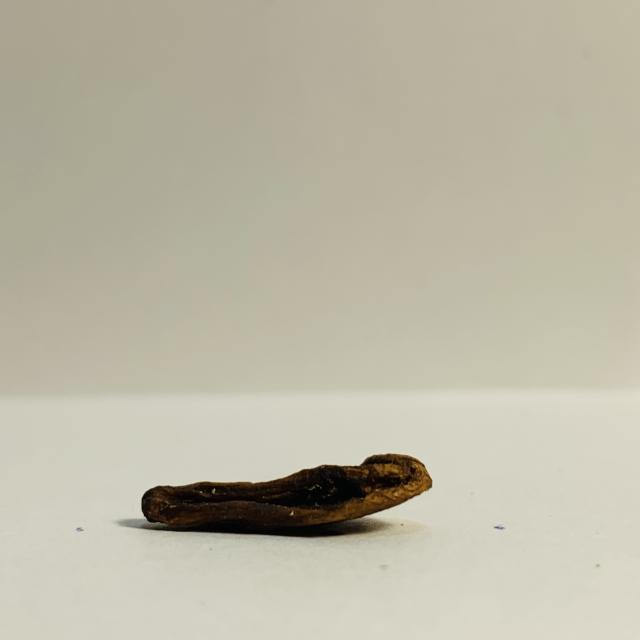Flat_cocoabeans: (71, 413, 481, 557)
